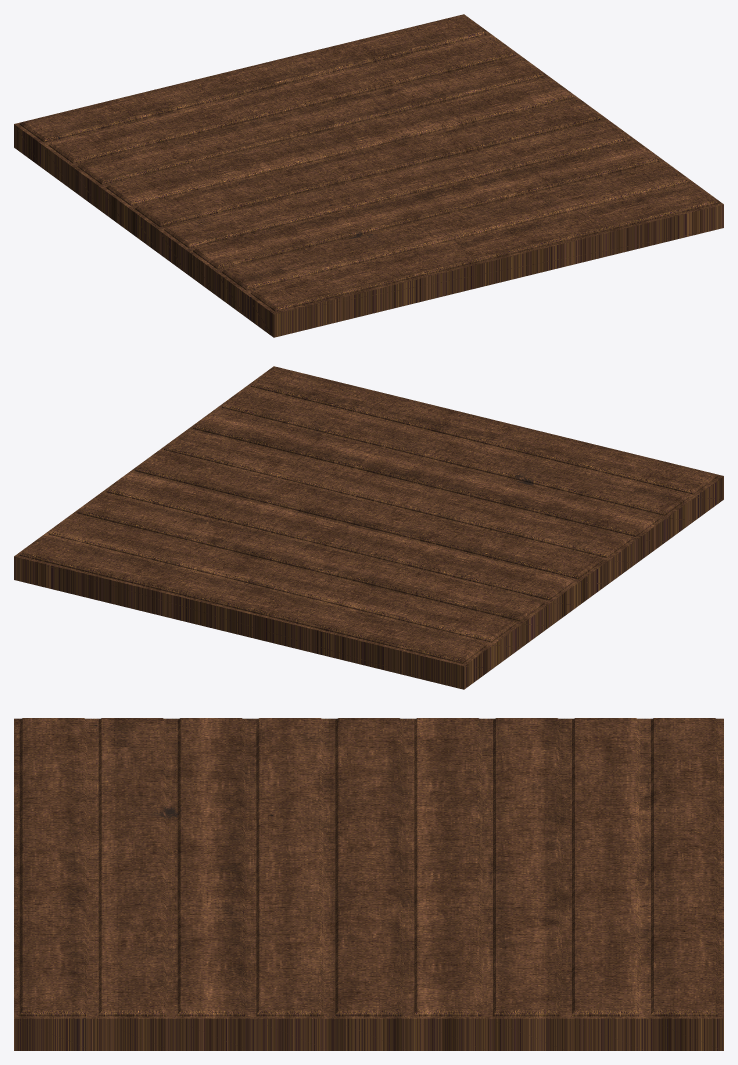
The model's file is Floor Wood.fbx.
The picture shows the model from 3 angles, top to bottom: view 1: azimuth 30°, elevation 25°; view 2: azimuth 150°, elevation 25°; view 3: azimuth 270°, elevation 25°; orthographic projection. The views are drawn at different scales.
Visible parts, largest first — view 1: Floor Wood; view 2: Floor Wood; view 3: Floor Wood.
Part boxes in pixels (<box>): Floor Wood: <box>14,14,723,337</box>; Floor Wood: <box>14,366,723,689</box>; Floor Wood: <box>14,718,723,1050</box>.
Size of the model in its own units: 4 by 4 by 0.2267.
